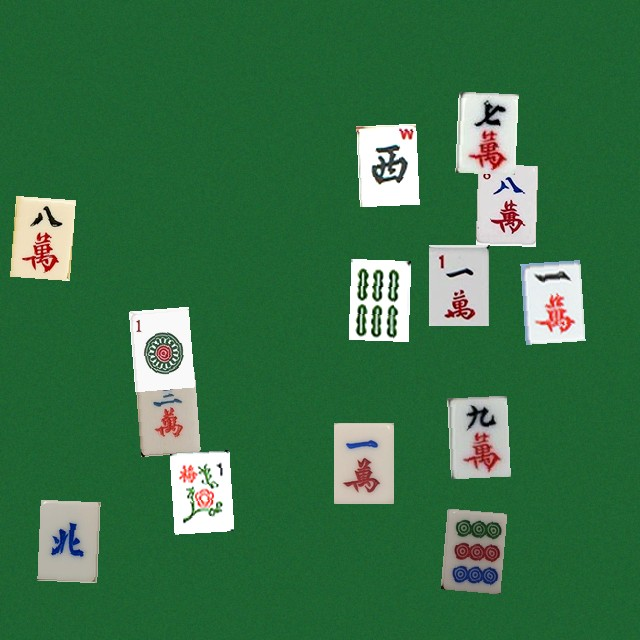tile: (475, 164, 535, 245), (135, 371, 195, 452), (333, 422, 393, 503), (356, 123, 416, 204), (440, 508, 500, 589), (455, 91, 515, 172), (447, 395, 507, 476), (348, 258, 408, 339), (428, 244, 488, 325), (169, 450, 229, 531), (10, 195, 70, 276), (520, 260, 580, 341), (128, 306, 188, 387), (37, 499, 97, 580)
